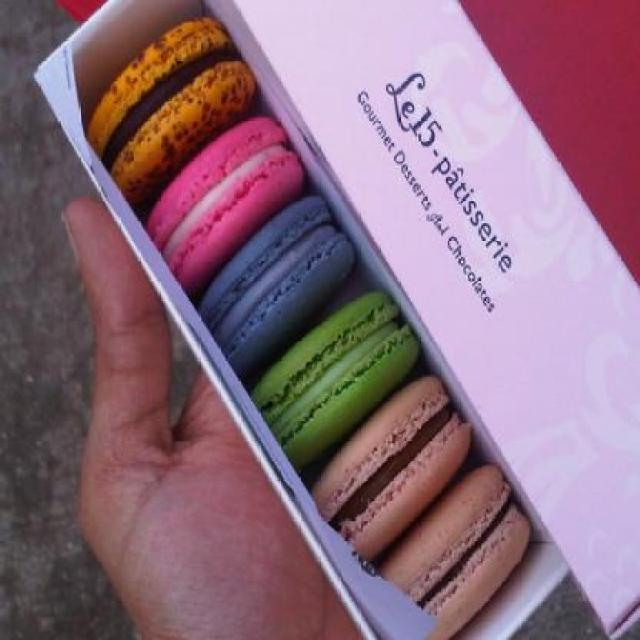Macaron: (78, 6, 540, 637)
